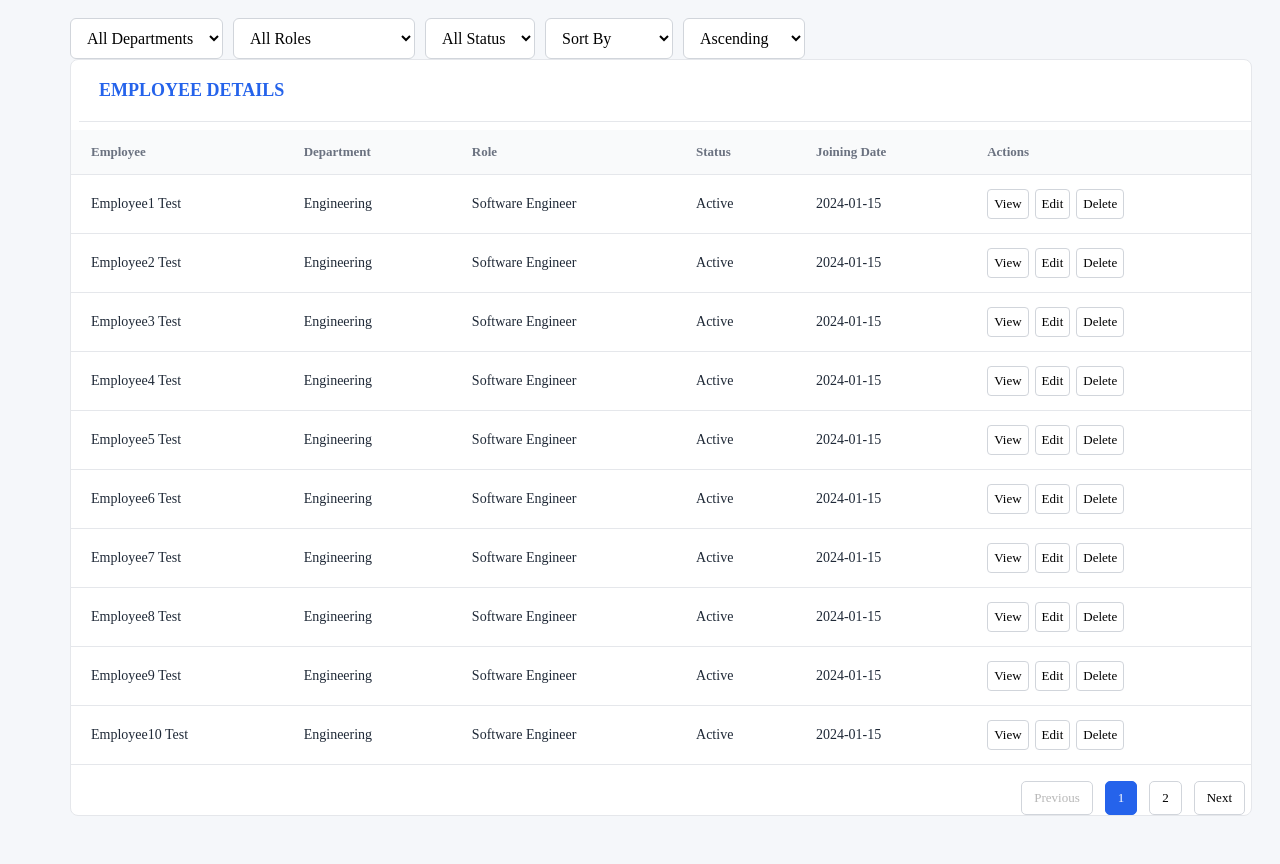
Scenario: Pagination › should move to the next page when Next is clicked
(page scrolled)
expect the text "Employee1 Test" is shown: met, box [71,174,284,234]
Click the button "Next" at (1219, 798), box [1194,781,1245,815]
(page scrolled)
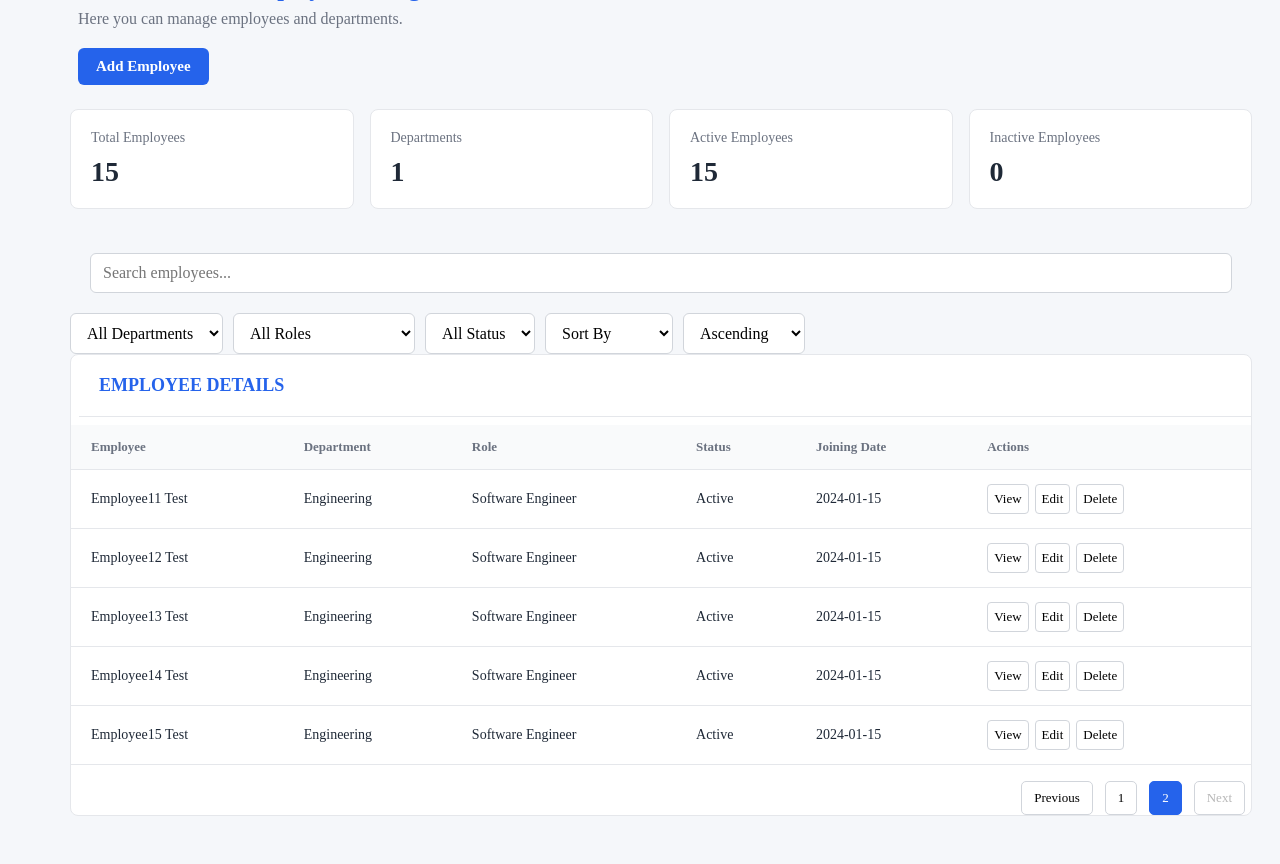
expect the text "Employee11 Test" is shown: met, box [71,470,284,528]
expect the text "Employee1 Test" is gone: met
